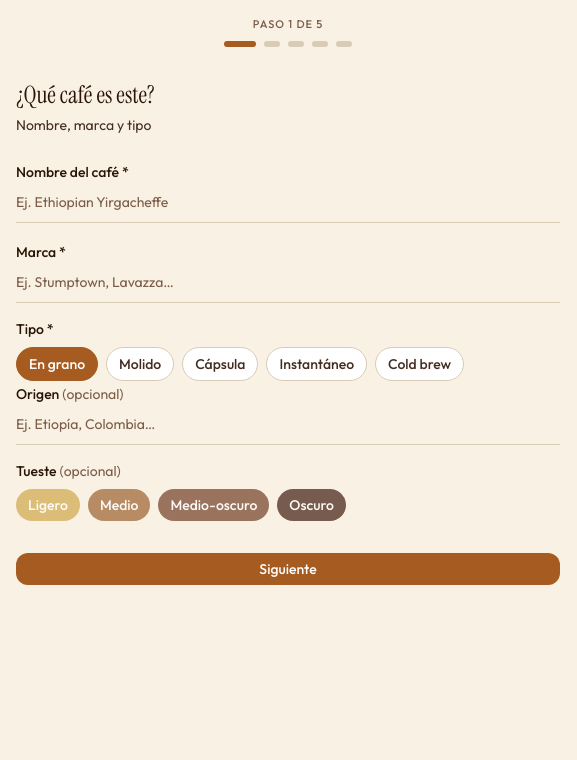
CoffeeForm step gating › advances to step 2 once name/brand/type are valid
The width and height of the screenshot is (577, 760).
Type "Yirgacheffe" into the field labelled "Nombre del café *" at (288, 202), box x1=16 y1=182 x2=560 y2=222
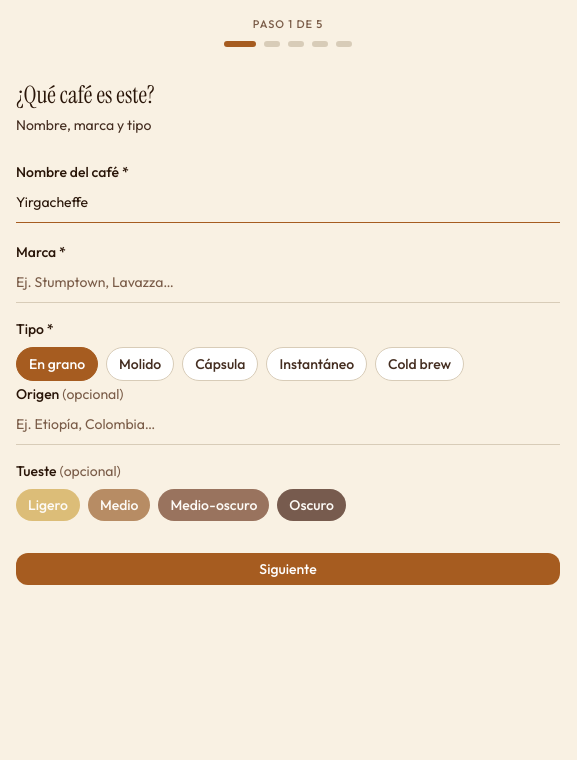
Type "Stumptown" into the field labelled "Marca *" at (288, 282), box x1=16 y1=262 x2=560 y2=302
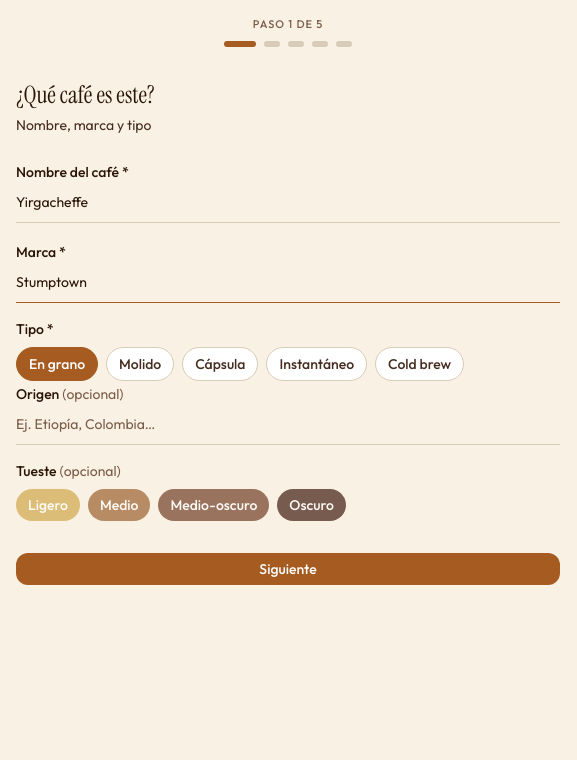
Click the button "Siguiente" at (288, 568), box x1=16 y1=552 x2=560 y2=584
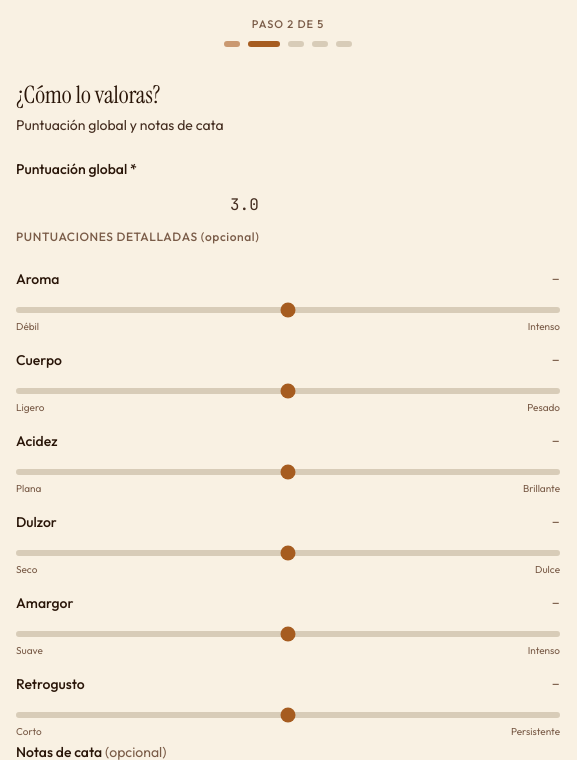
Result: the text "Paso 2 de 5" is shown at x1=252 y1=16 x2=324 y2=32
